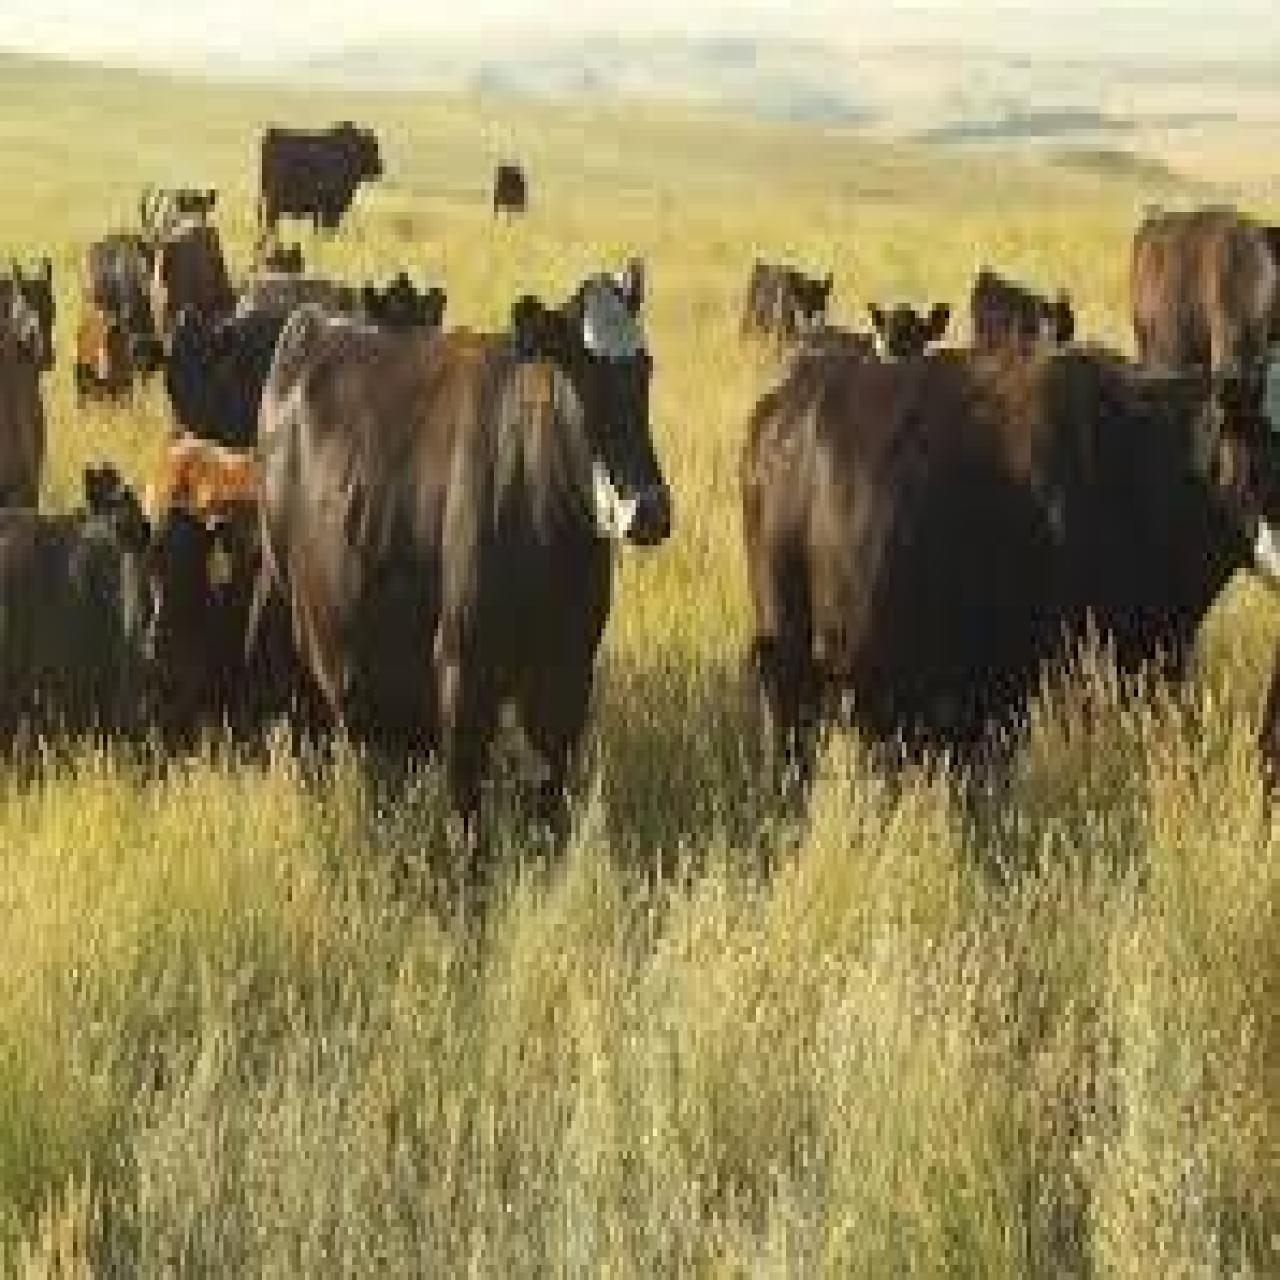cow: (252, 261, 676, 874), (738, 338, 1280, 813), (1128, 209, 1278, 397), (258, 121, 392, 250), (0, 253, 60, 504), (968, 261, 1076, 345), (743, 265, 833, 348), (493, 163, 529, 238)
